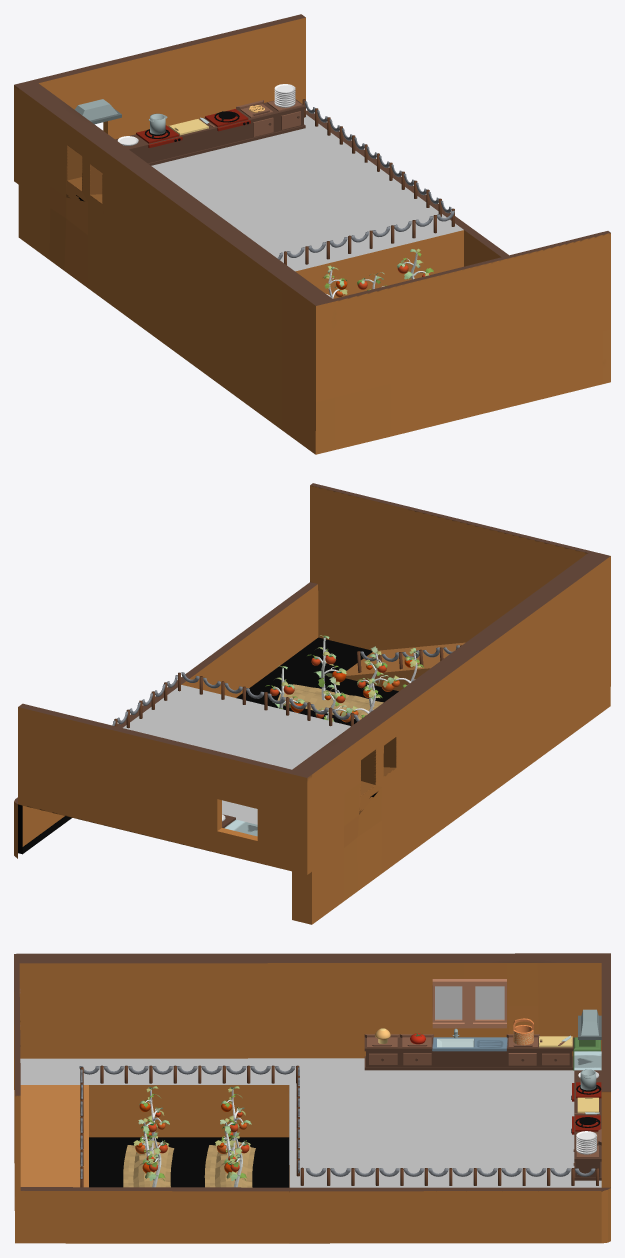
The model's file is Cenario.fbx.
The picture shows the model from 3 angles, top to bottom: view 1: azimuth 30°, elevation 25°; view 2: azimuth 150°, elevation 25°; view 3: azimuth 270°, elevation 25°; orthographic projection.
Parts seen in each view (by area): view 1: Parede.001, Parede, Grade; view 2: Parede.001, Parede, Grade, Cube; view 3: Parede.001, Parede, Cube, Grade, Parede.003, Cesta, PilhaPrato.
Boxes of the visible parts, left/top/right/bottom form: Parede.001: left=14, top=14, right=610, bottom=454; Parede: left=74, top=99, right=433, bottom=298; Grade: left=277, top=99, right=454, bottom=264; Parede.001: left=14, top=483, right=610, bottom=924; Parede: left=222, top=635, right=423, bottom=836; Grade: left=112, top=645, right=461, bottom=728; Cube: left=346, top=642, right=465, bottom=691; Parede.001: left=14, top=953, right=610, bottom=1243; Parede: left=123, top=979, right=601, bottom=1187; Cube: left=20, top=1085, right=88, bottom=1187; Grade: left=79, top=1065, right=598, bottom=1187; Parede.003: left=204, top=1140, right=255, bottom=1187; Cesta: left=513, top=1018, right=533, bottom=1045; PilhaPrato: left=576, top=1131, right=596, bottom=1154.
Bounding box in the file's own units: 10587 × 5200 × 18725.
